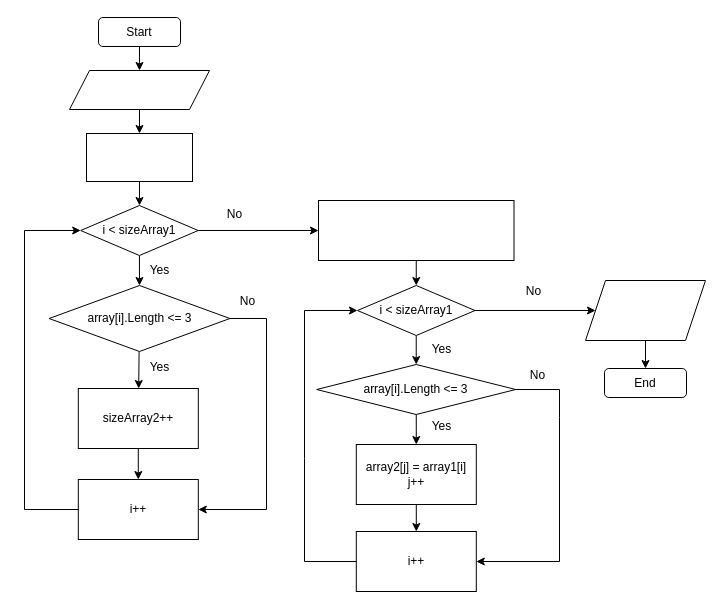
This 723x609 diagram has some shape labels left out. The box of each missing label's shape, as (x1, y1, x2, y2) in pixels:
array2: (584, 280, 706, 340)
array2 = new string [sizeArray2] i = 0: (318, 200, 514, 260)
i = 0 j = 0 sizeArray2 = 0: (86, 132, 192, 182)
sizeArray1 array1[sizeArray1]: (68, 70, 210, 110)
